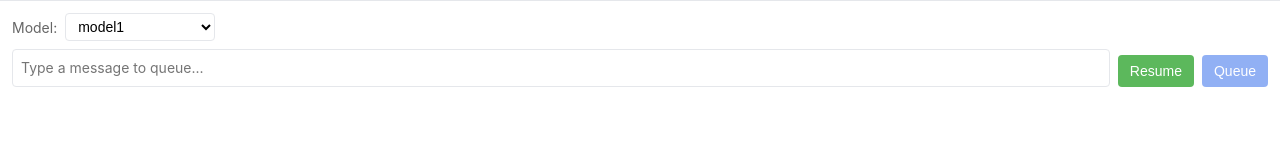
it: MessageInput UI › disables resume button after click until daemon responds
The width and height of the screenshot is (1280, 160).
Click the button "Resume": [1156, 71] box [1118,55,1194,87]
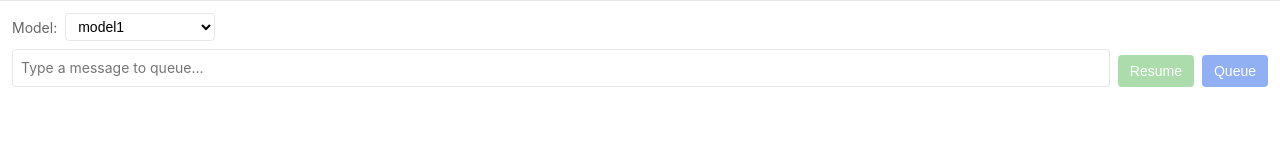
expect the button "Resume" is disabled: met, box [1118,55,1194,87]
